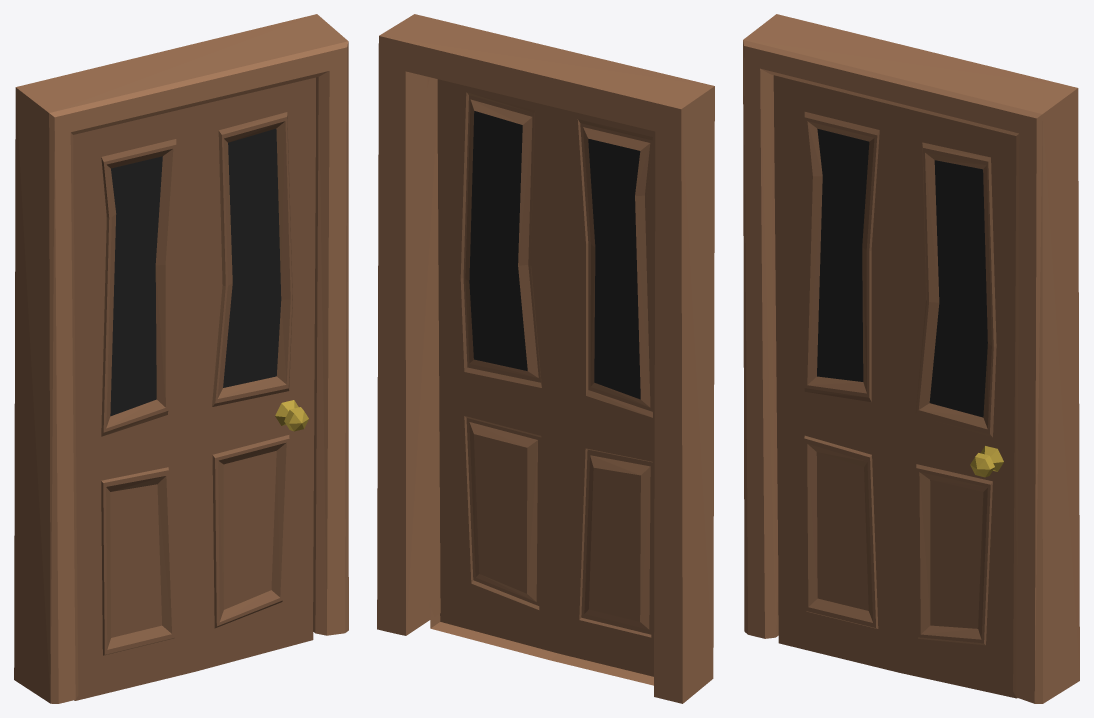
Rendered from SM_Prop_Door_02.glb.
The picture shows the model from 3 angles, left to right: view 1: azimuth 30°, elevation 25°; view 2: azimuth 150°, elevation 25°; view 3: azimuth 330°, elevation 25°; orthographic projection.
Visible parts, largest first — view 1: SM_Prop_Door_02_part00; view 2: SM_Prop_Door_02_part00; view 3: SM_Prop_Door_02_part00.
Boxes of the visible parts, x1=… form: SM_Prop_Door_02_part00: x1=14, y1=14, x2=348, y2=703; SM_Prop_Door_02_part00: x1=377, y1=14, x2=714, y2=703; SM_Prop_Door_02_part00: x1=743, y1=14, x2=1079, y2=703.
Size of the model in its own units: 1.3 by 2.44 by 0.3167.
Materials: 1 (1 with a texture image).
